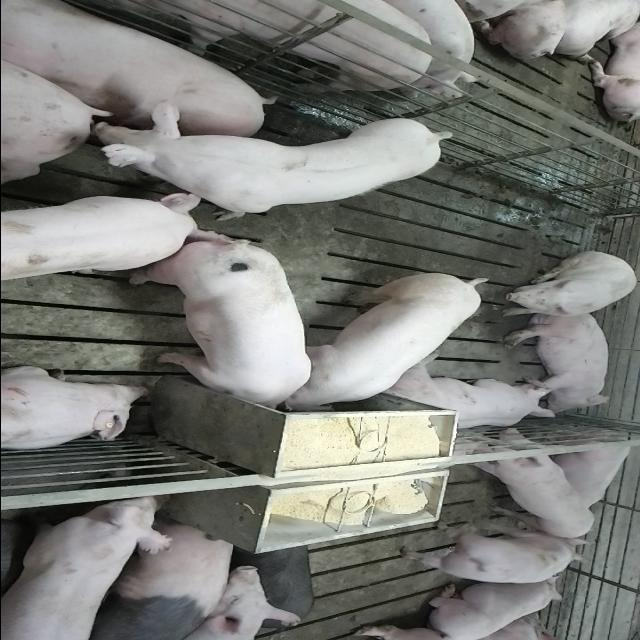Feeding: (126, 240, 312, 420), (283, 268, 496, 410)
Lateral_lying: (501, 310, 614, 417)
Sitting: (494, 252, 636, 318)
Standing: (1, 0, 438, 94), (80, 112, 450, 219), (1, 497, 174, 638), (68, 522, 246, 638), (0, 195, 199, 289), (464, 426, 594, 540)
Sternal_lying: (0, 366, 150, 454), (376, 360, 556, 432), (396, 528, 588, 588), (419, 579, 571, 640), (545, 427, 636, 515)
